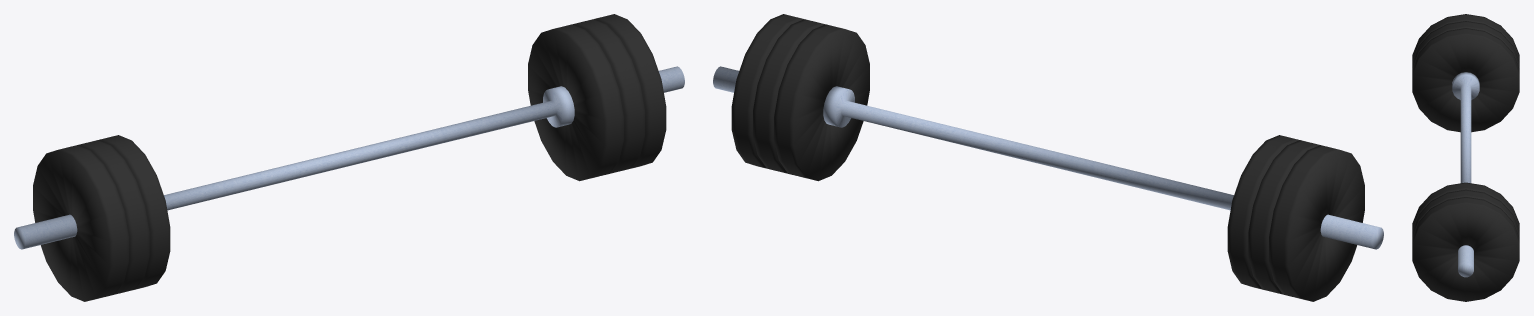
File: weight_large.obj
3 views of the same model, side by side, from view 1: azimuth 30°, elevation 25°; view 2: azimuth 150°, elevation 25°; view 3: azimuth 270°, elevation 25° (orthographic). The views are drawn at different scales.
Parts seen in each view (by area): view 1: Tube003, Tube006, Cylinder001, Tube004, Tube005, Tube001, Tube002; view 2: Tube003, Tube006, Cylinder001, Tube004, Tube005, Tube001, Tube002; view 3: Tube004, Tube001, Cylinder001, Tube006, Tube005, Tube002, Tube003.
Boxes of the visible parts, left/top/right/bottom form: Tube003: left=33, top=145, right=128, bottom=301; Tube006: left=528, top=24, right=623, bottom=181; Cylinder001: left=14, top=66, right=684, bottom=249; Tube004: left=594, top=14, right=666, bottom=170; Tube005: left=573, top=19, right=644, bottom=175; Tube001: left=98, top=135, right=170, bottom=291; Tube002: left=77, top=140, right=149, bottom=296; Tube003: left=1269, top=145, right=1364, bottom=301; Tube006: left=774, top=24, right=869, bottom=181; Cylinder001: left=713, top=66, right=1383, bottom=249; Tube004: left=731, top=14, right=803, bottom=170; Tube005: left=753, top=19, right=824, bottom=175; Tube001: left=1227, top=135, right=1299, bottom=291; Tube002: left=1248, top=140, right=1320, bottom=296; Tube004: left=1412, top=197, right=1519, bottom=301; Tube001: left=1412, top=28, right=1519, bottom=132; Cylinder001: left=1452, top=72, right=1479, bottom=277; Tube006: left=1412, top=182, right=1519, bottom=229; Tube005: left=1412, top=189, right=1519, bottom=237; Tube002: left=1412, top=21, right=1519, bottom=68; Tube003: left=1412, top=14, right=1519, bottom=61.
Size of the model in its own units: 10197 by 2087 by 2055.
2 materials, 2 textured.
